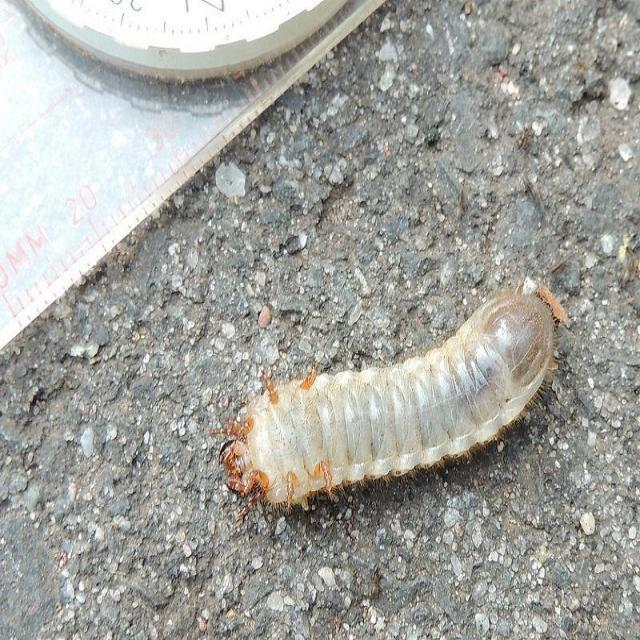Grub-Adult-: (212, 279, 571, 512)
